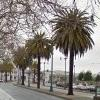Palm tree: (14, 19, 97, 83)
